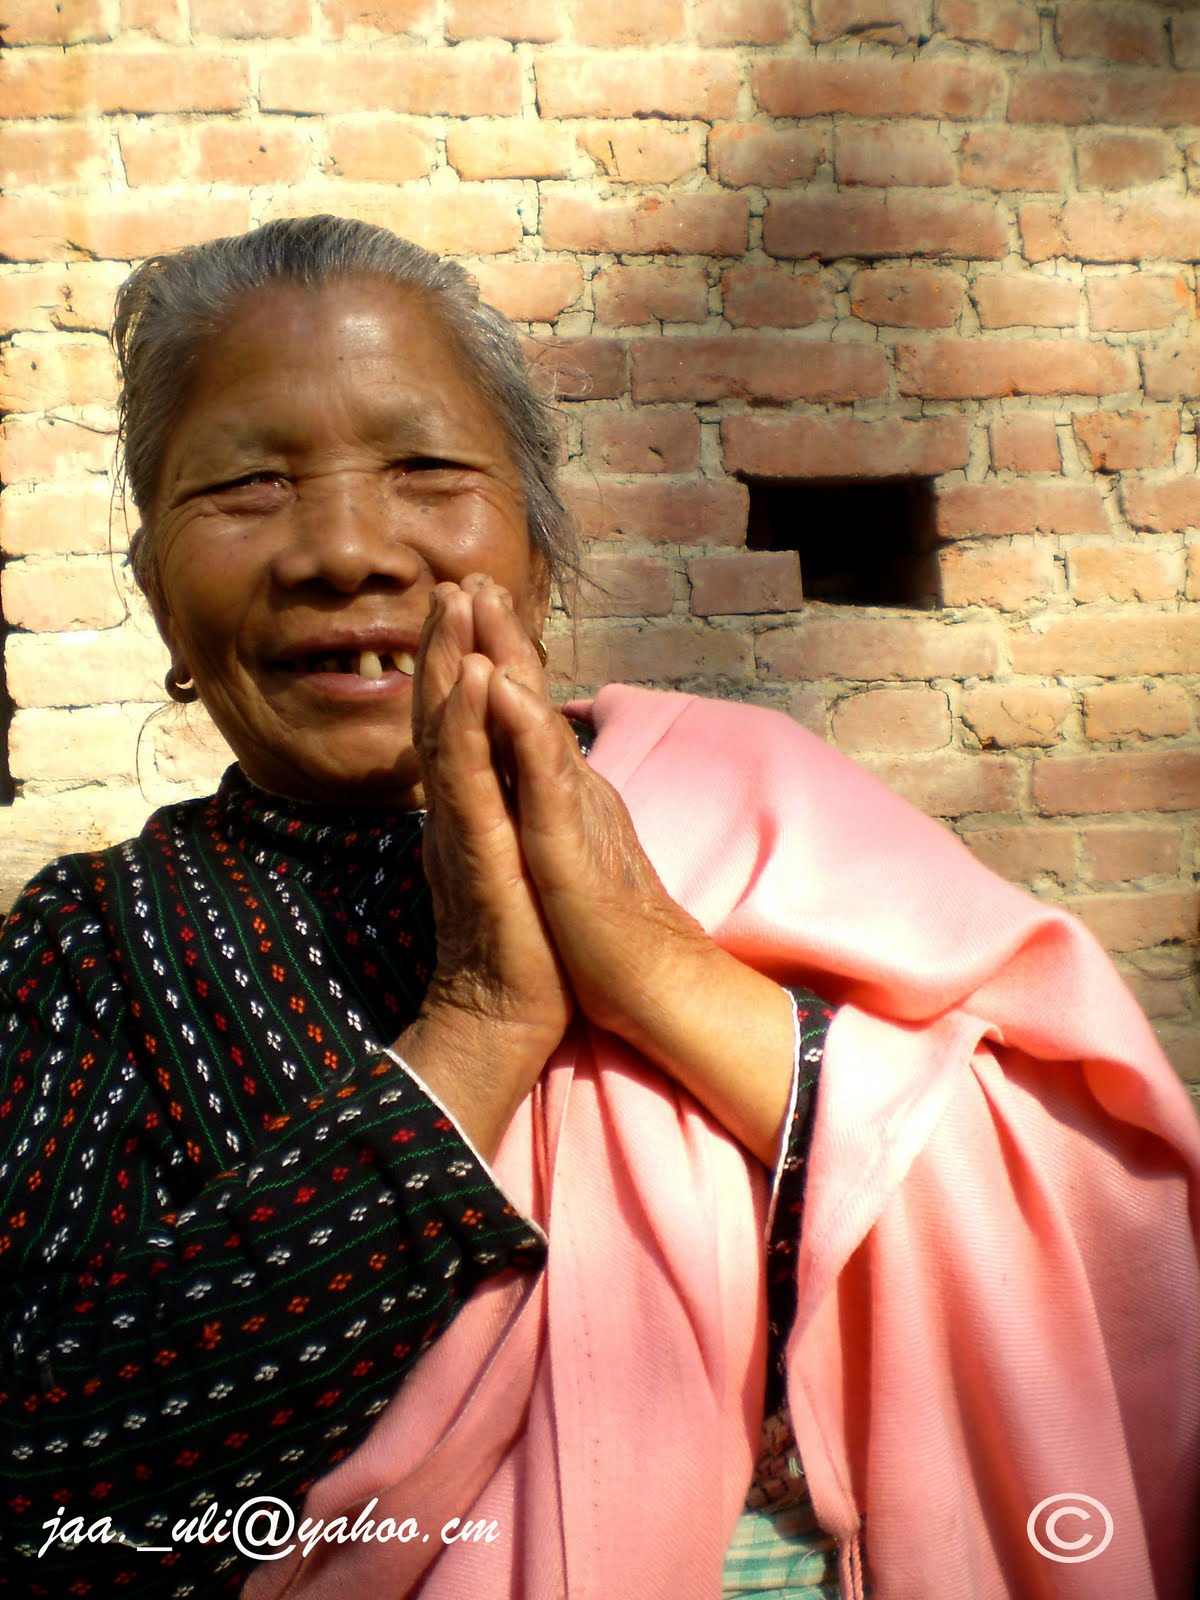human: (5, 218, 1200, 1600)
